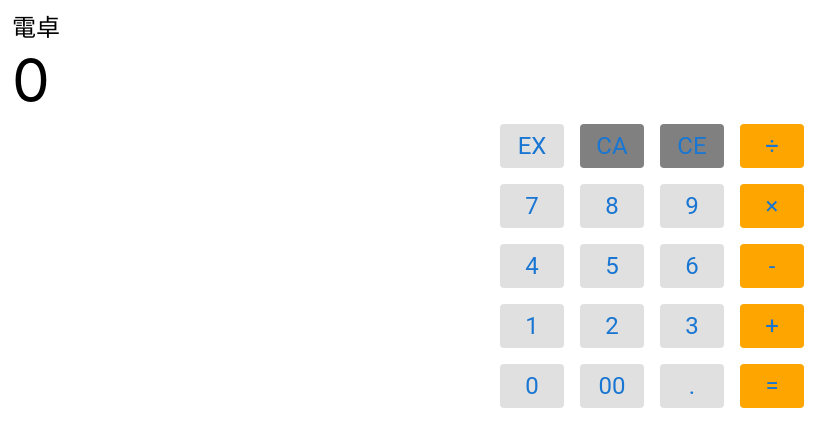
Test: handleNumberClick event › 「2」「00」ボタンをクリックすると、200が表示される"
What coordinates should you click on to do the following:
click the button "2"
I would click on:
 (612, 326)
Its box is [580, 304, 644, 348].
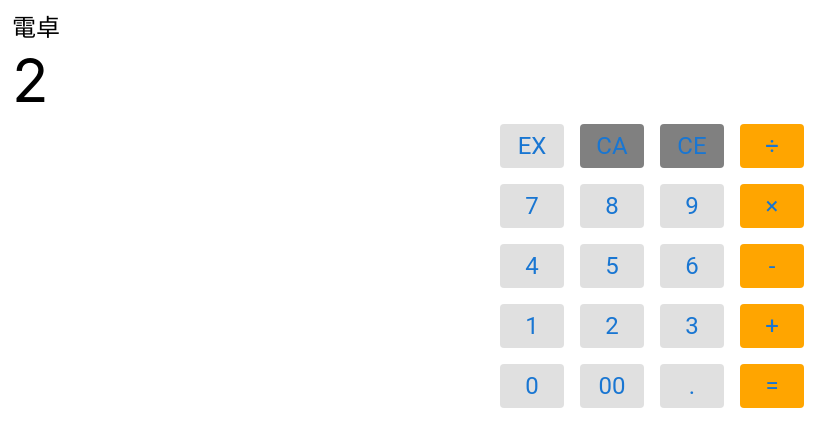
What coordinates should you click on to do the following:
click the button "00"
I would click on:
 (612, 386)
Its box is [580, 364, 644, 408].
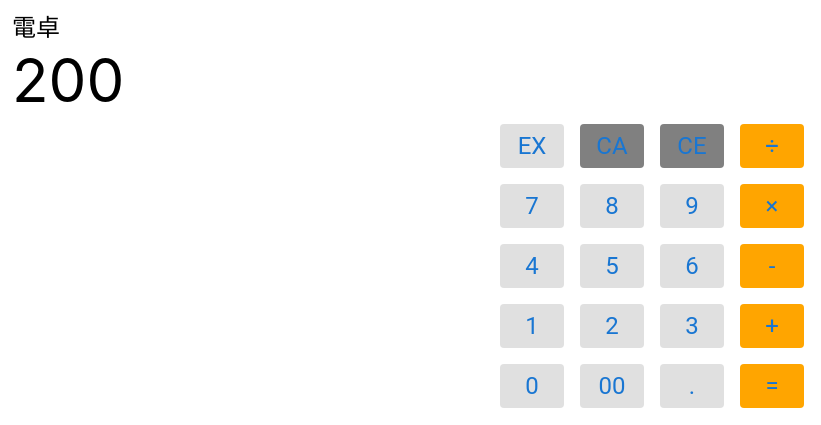
Expected: the text with test id "display" reads "200", [12, 44, 124, 116]
